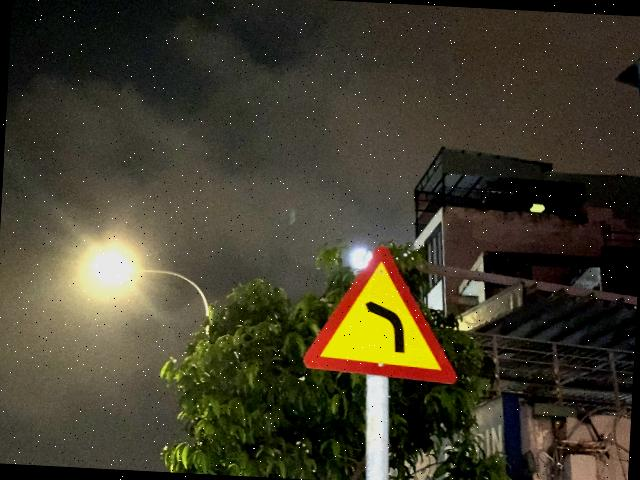cho-ngoat-nguy-hiem-ben-trai: (302, 241, 465, 387)
